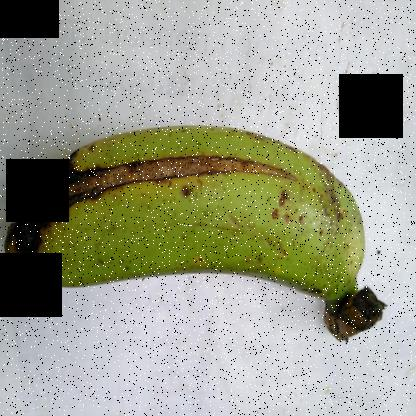rotten: (12, 118, 291, 285)
